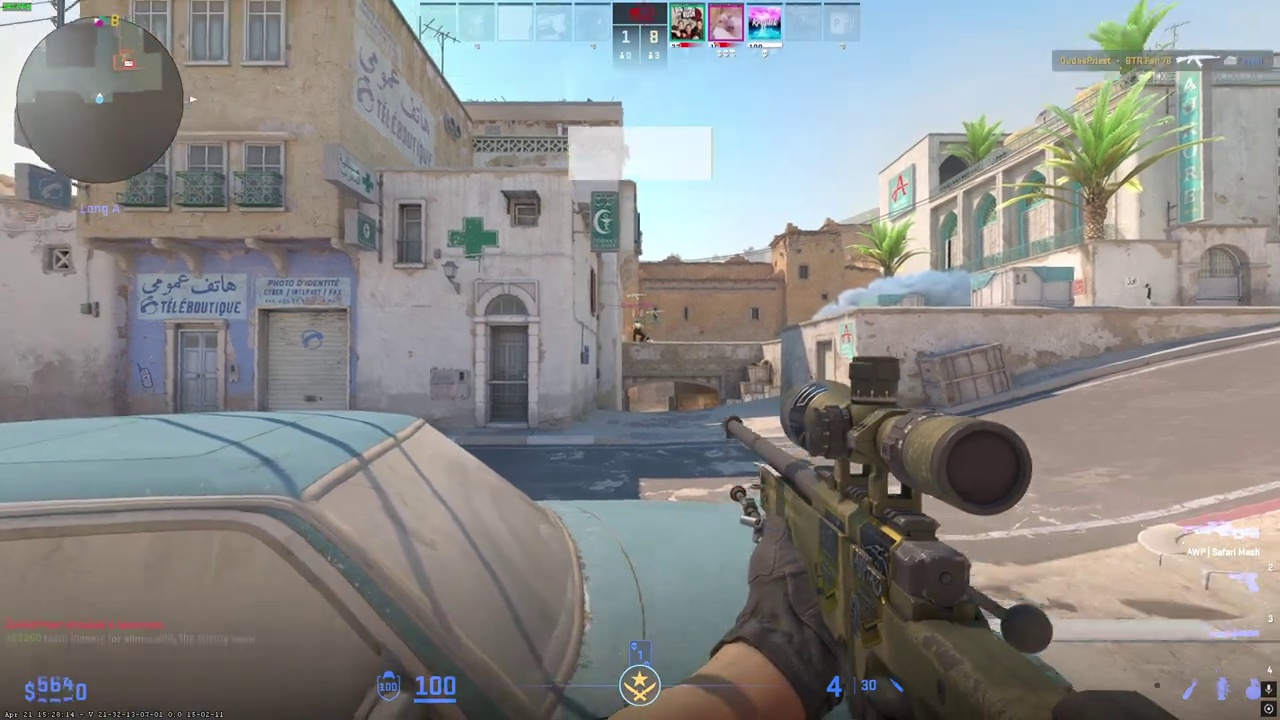Terrorist: (631, 321, 645, 342)
